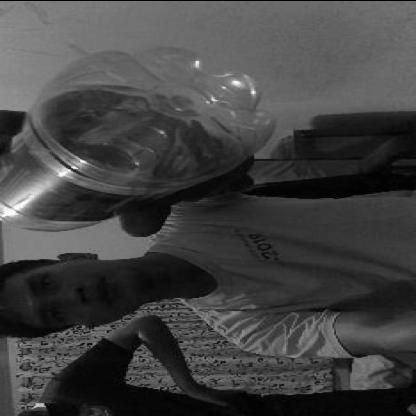plastic_bottles: (0, 41, 272, 237)
